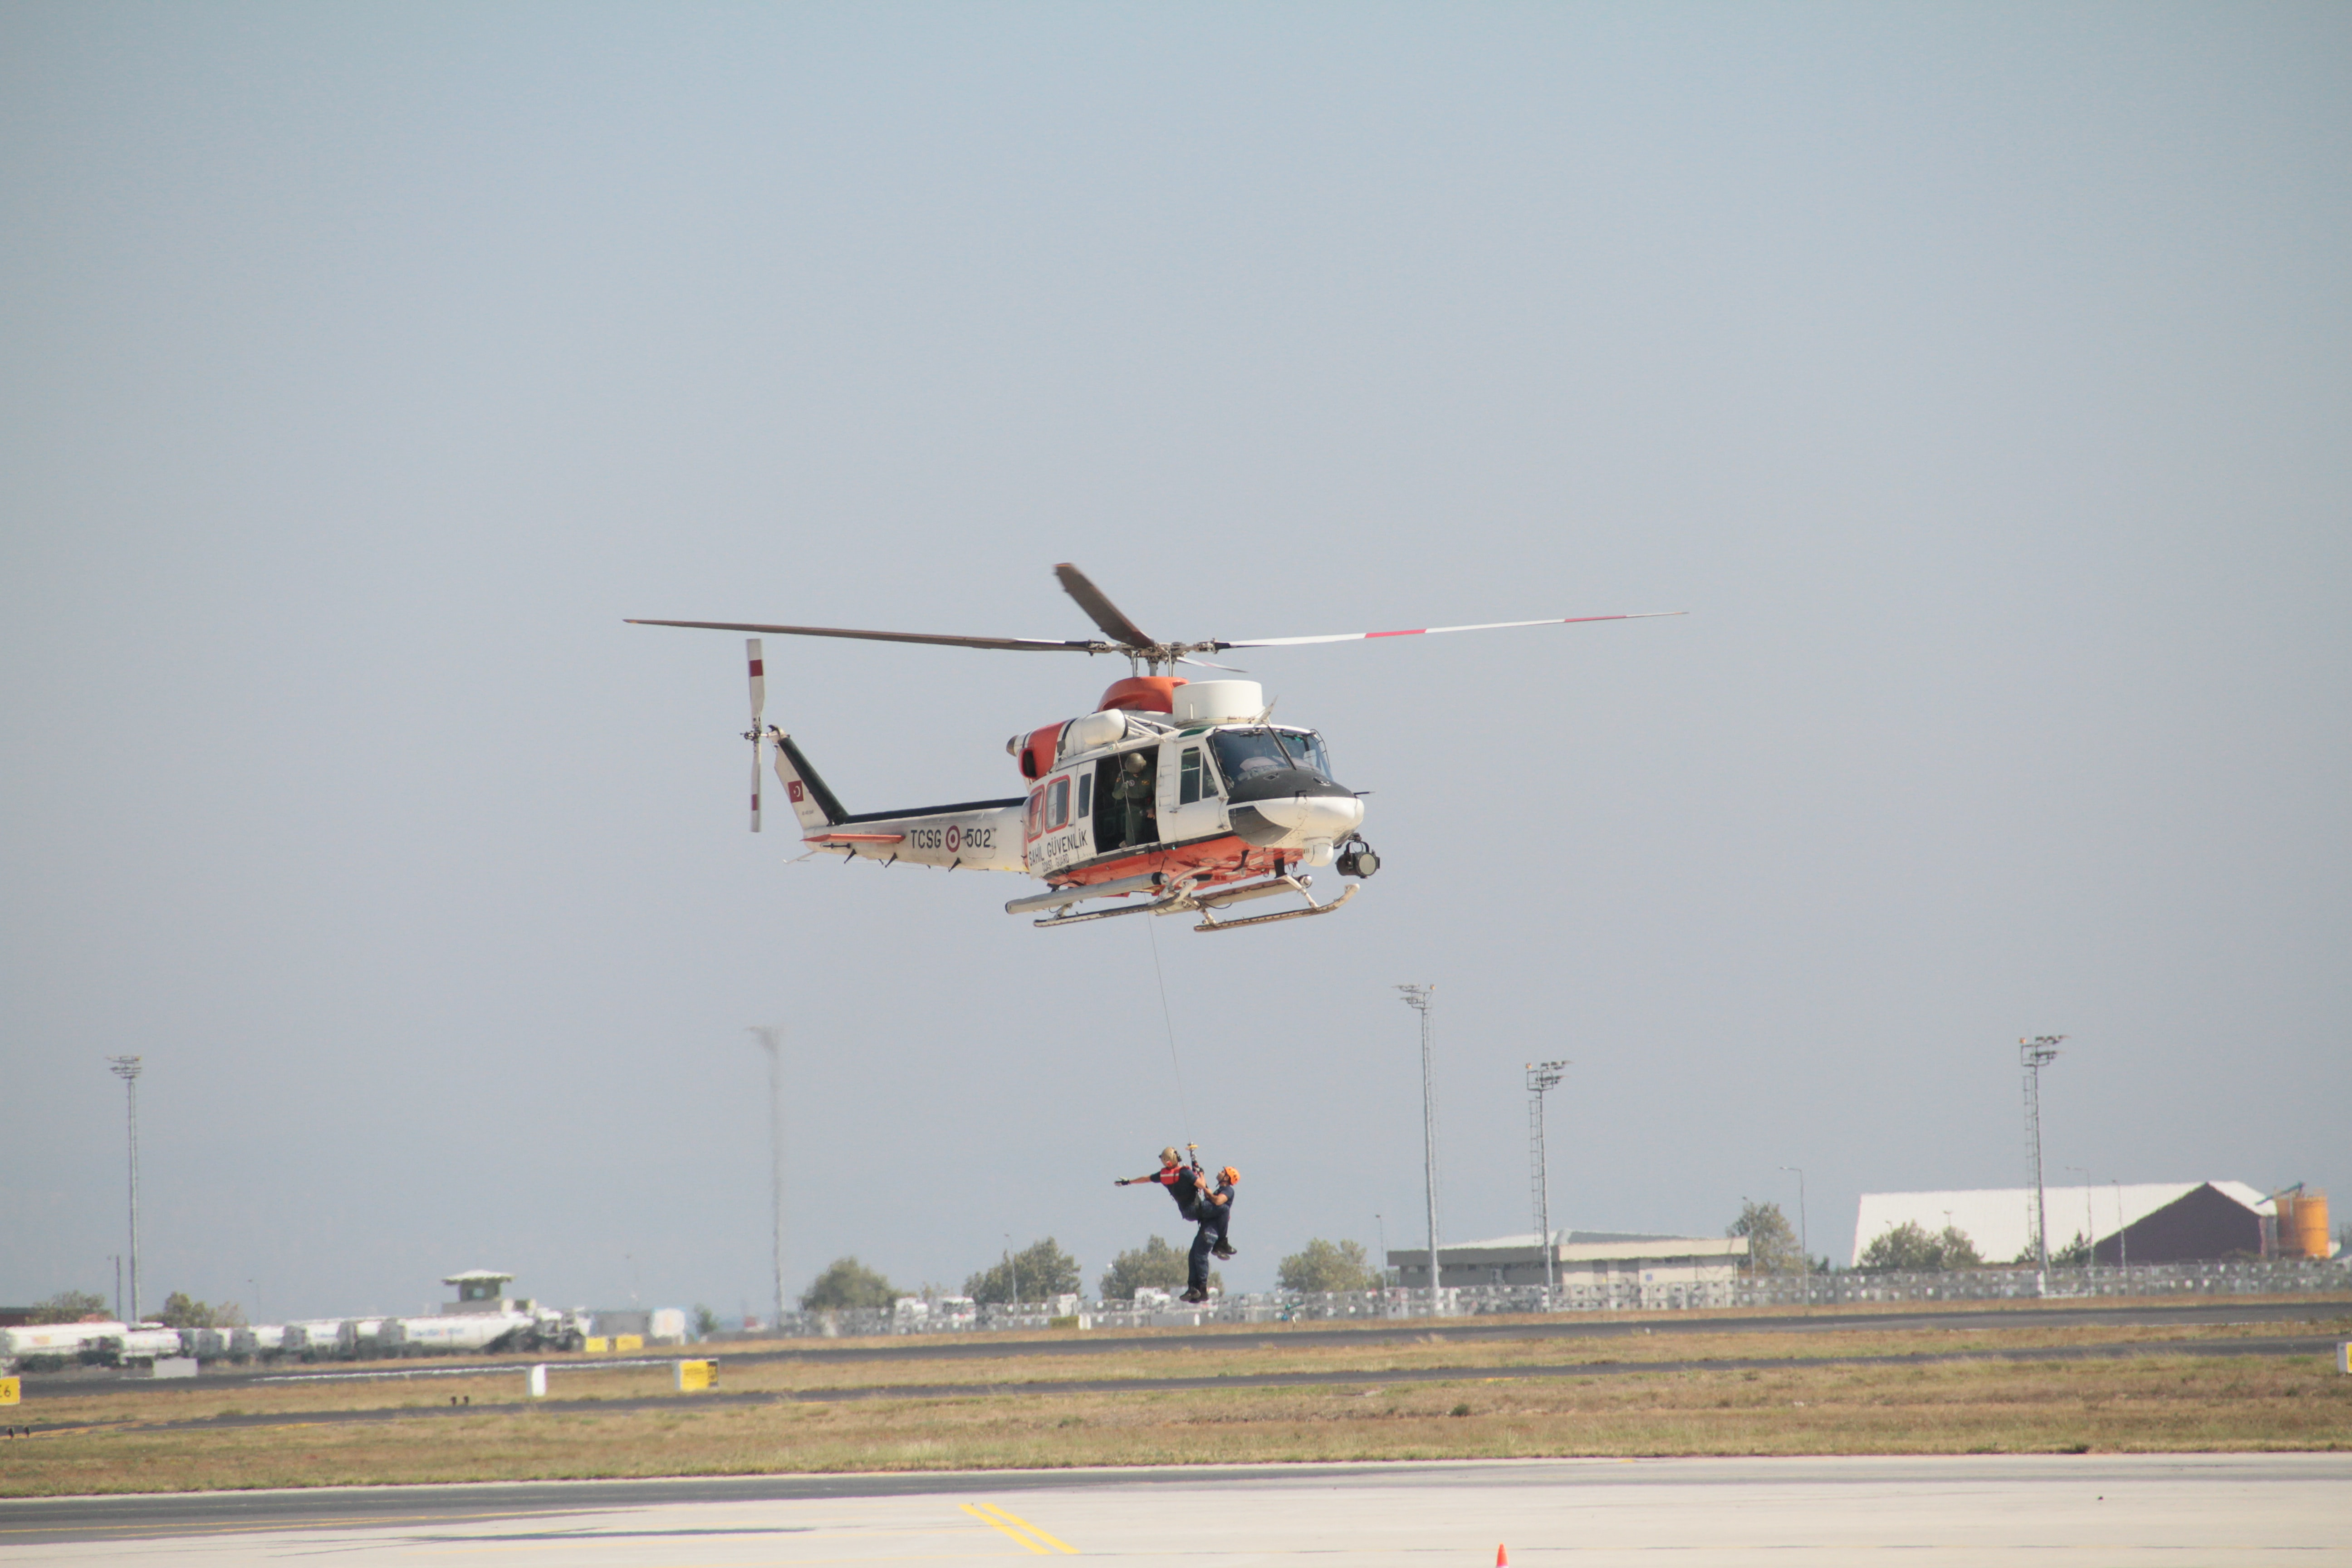helicopter: (555, 473, 1874, 991)
